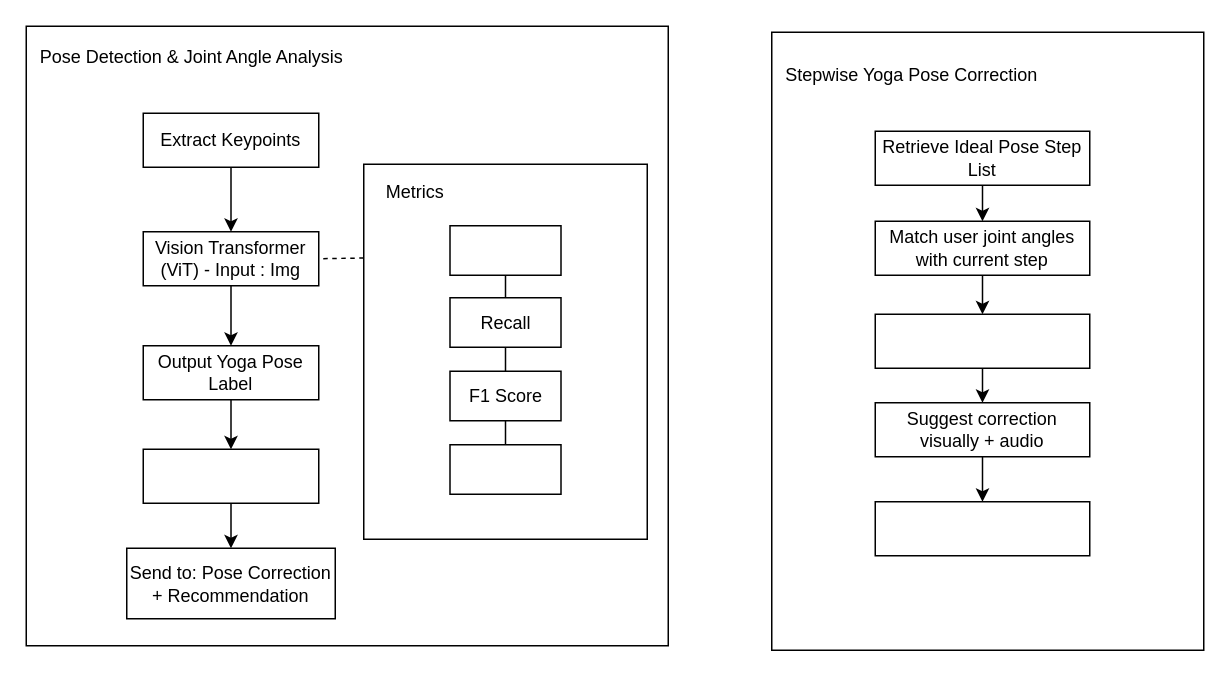
Some shapes in this 1230 by 677 pixel diagram are drawn without their labels. The shapes that lost their labels are listed below. From the top down, each one's centre as x and y in pixels, then its label:
At point (504, 249): "Precision".
At point (982, 340): "Identify incorrect joint(s)".
At point (230, 475): "Calculate Joint Angles".
At point (504, 468): "Accuracy".
At point (982, 528): "Advance step-by-step as user aligns".
